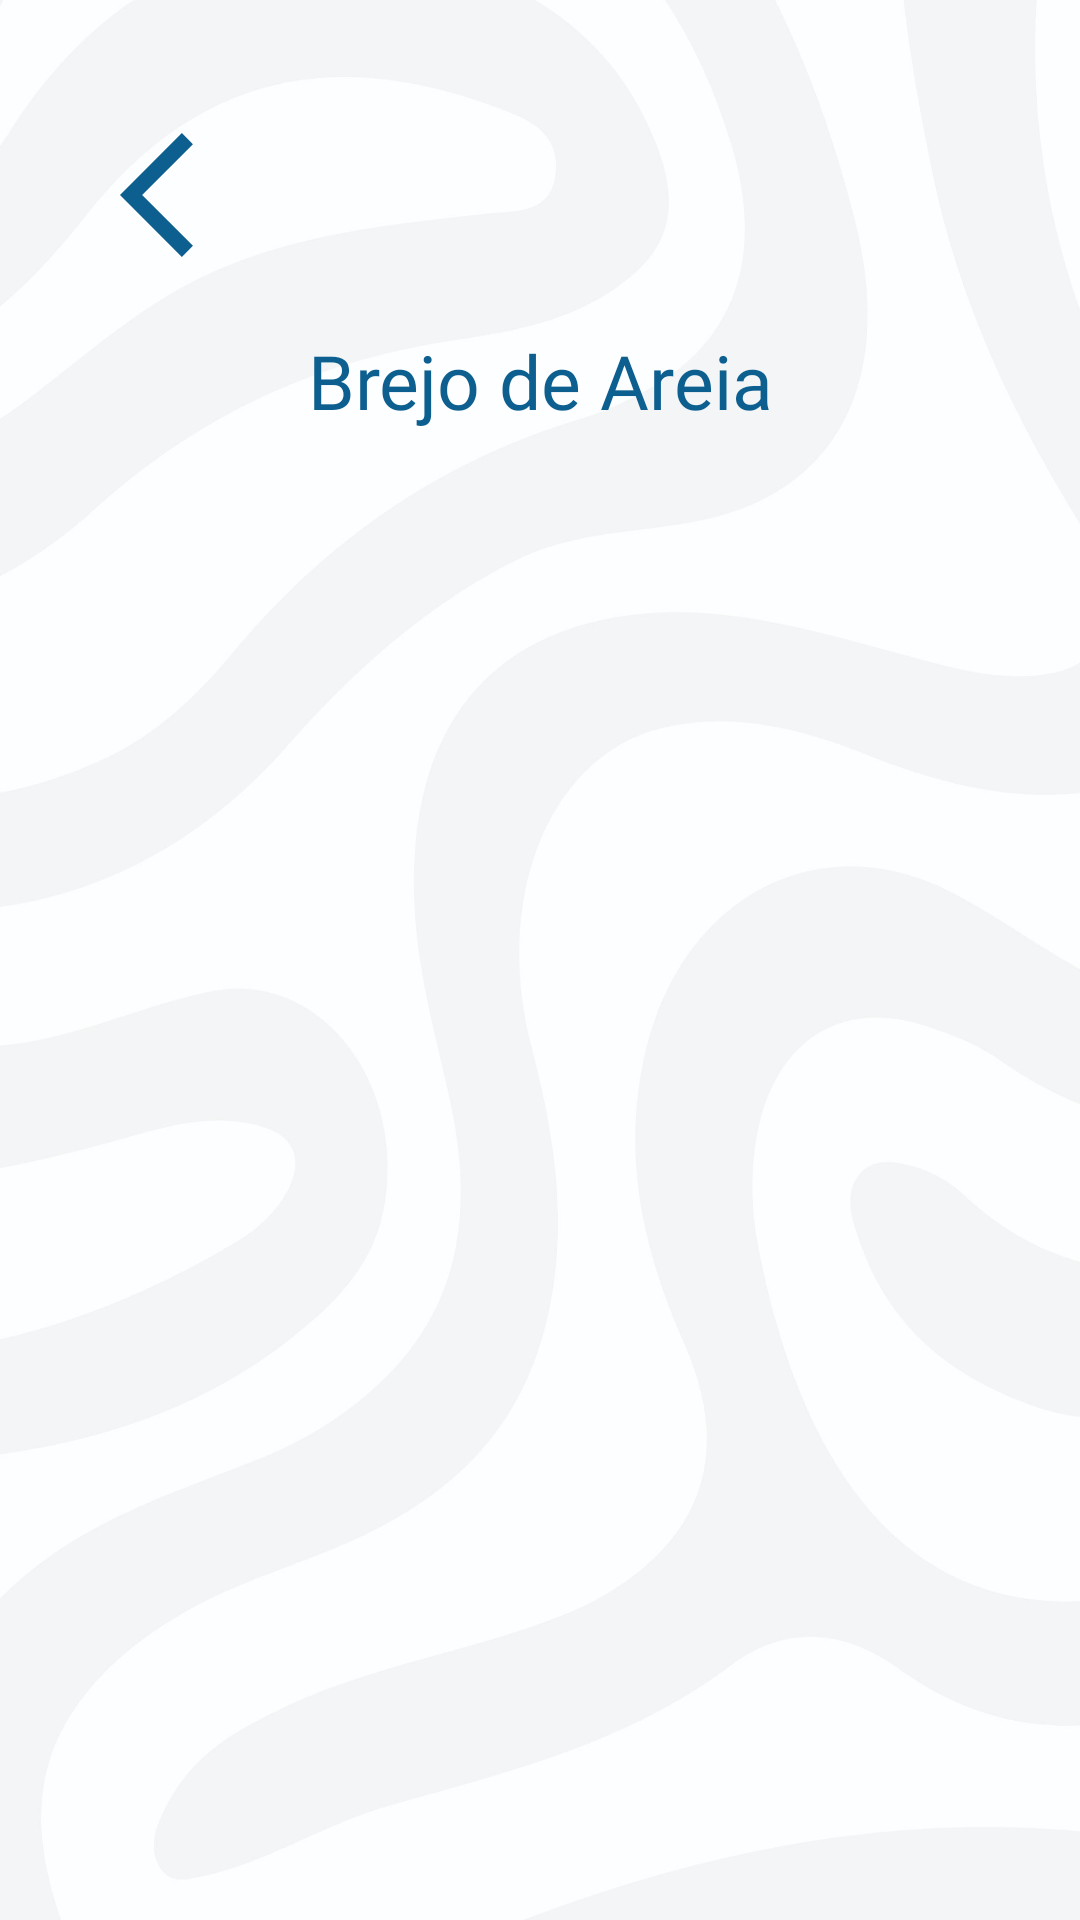

Point at icon controls on the screen. Image size 1080x1920, points as point (x, y).
voltar: point (156, 195)
